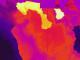Foc: (13, 0, 70, 35)
